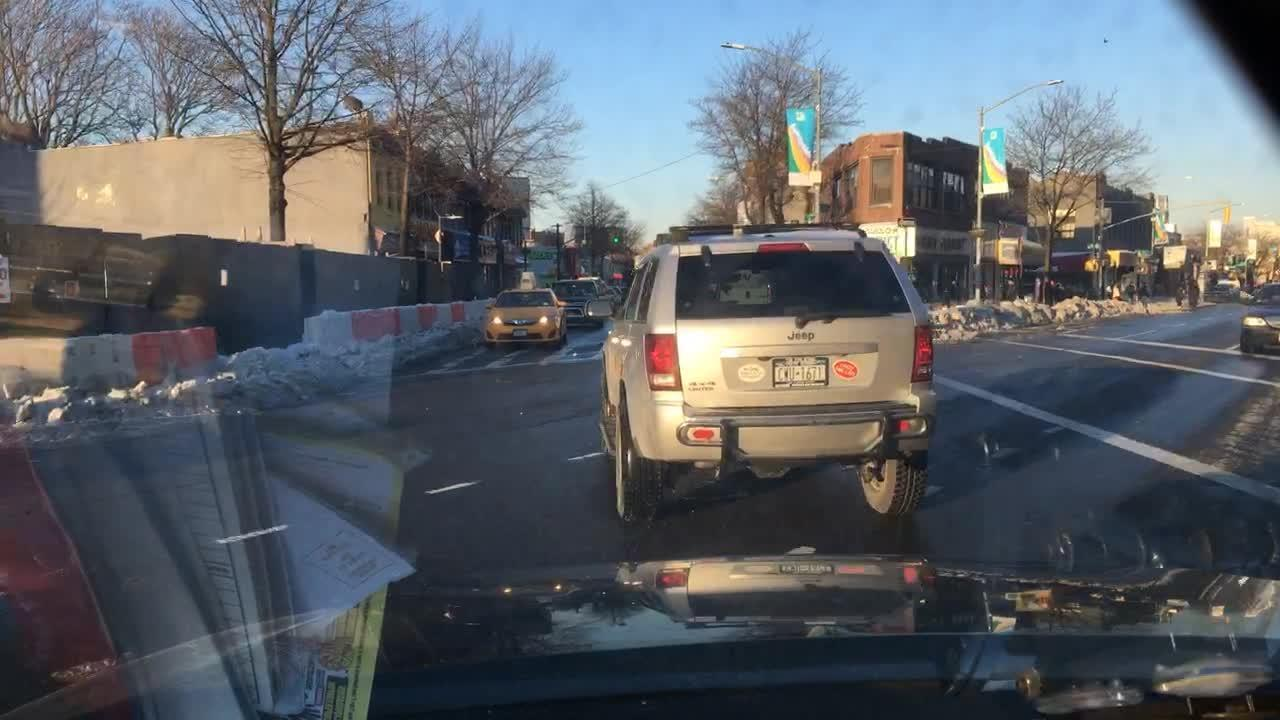jeep: (780, 326, 829, 347)
